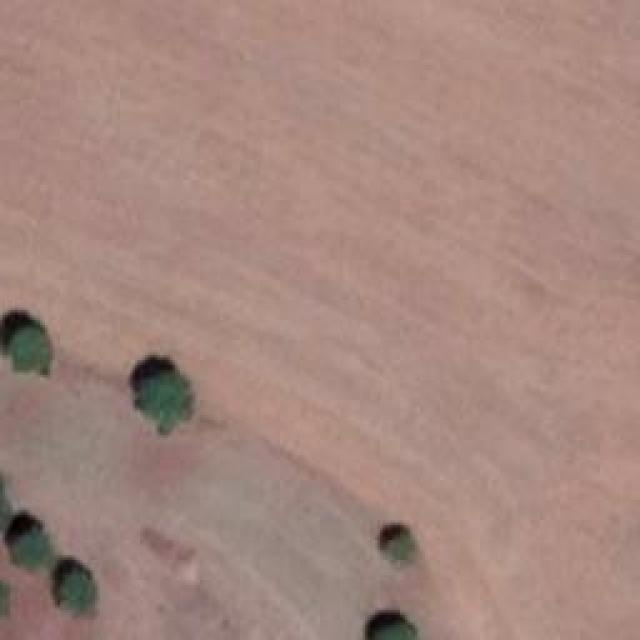Tree: (133, 370, 193, 430), (58, 570, 103, 620), (15, 325, 55, 380), (5, 523, 48, 573), (378, 530, 421, 563), (365, 617, 420, 640)
